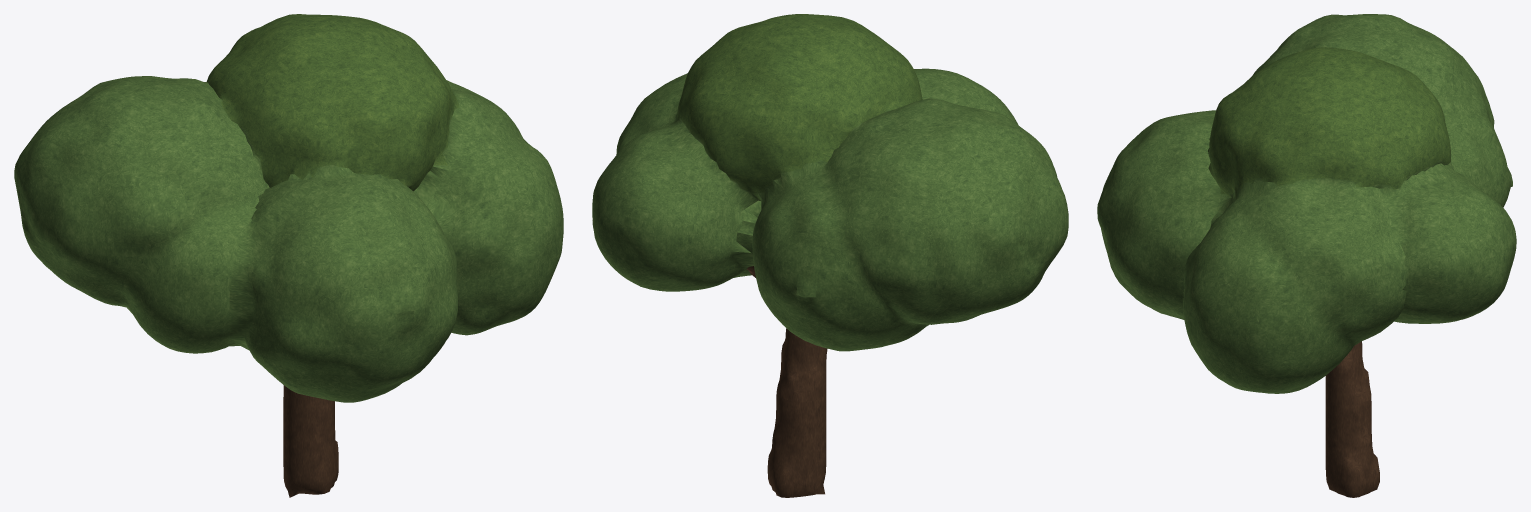
The model's file is tree_oak_c.glb.
3 renders of one model, left to right at view 1: azimuth 30°, elevation 25°; view 2: azimuth 150°, elevation 25°; view 3: azimuth 270°, elevation 25°, orthographic. The views are drawn at different scales.
Parts seen in each view (by area): view 1: wilds_tree_oak_c; view 2: wilds_tree_oak_c; view 3: wilds_tree_oak_c.
Part boxes in pixels (x1=…): wilds_tree_oak_c: x1=14, y1=14, x2=563, y2=497; wilds_tree_oak_c: x1=592, y1=14, x2=1068, y2=497; wilds_tree_oak_c: x1=1097, y1=14, x2=1516, y2=497.
Size of the model in its own units: 4.6 by 4.41 by 3.9.
Materials: 1 (1 with a texture image).
